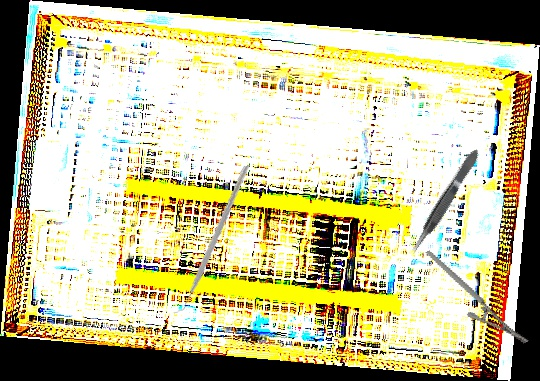Chopper: (149, 165, 269, 314)
Needle Holder: (425, 228, 530, 365)
Tissue Forceps: (405, 146, 485, 257)
